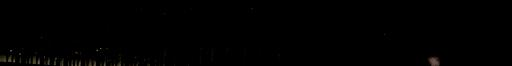letter: (50, 5, 84, 37), (230, 18, 258, 50), (316, 23, 344, 55), (87, 7, 113, 41), (115, 13, 143, 43), (146, 14, 172, 46), (174, 14, 200, 46), (18, 4, 44, 35), (375, 27, 401, 57), (202, 17, 226, 49), (261, 21, 285, 53), (462, 31, 486, 63), (287, 23, 313, 52), (347, 24, 369, 57), (405, 29, 427, 59), (432, 31, 454, 61), (491, 32, 511, 64)
